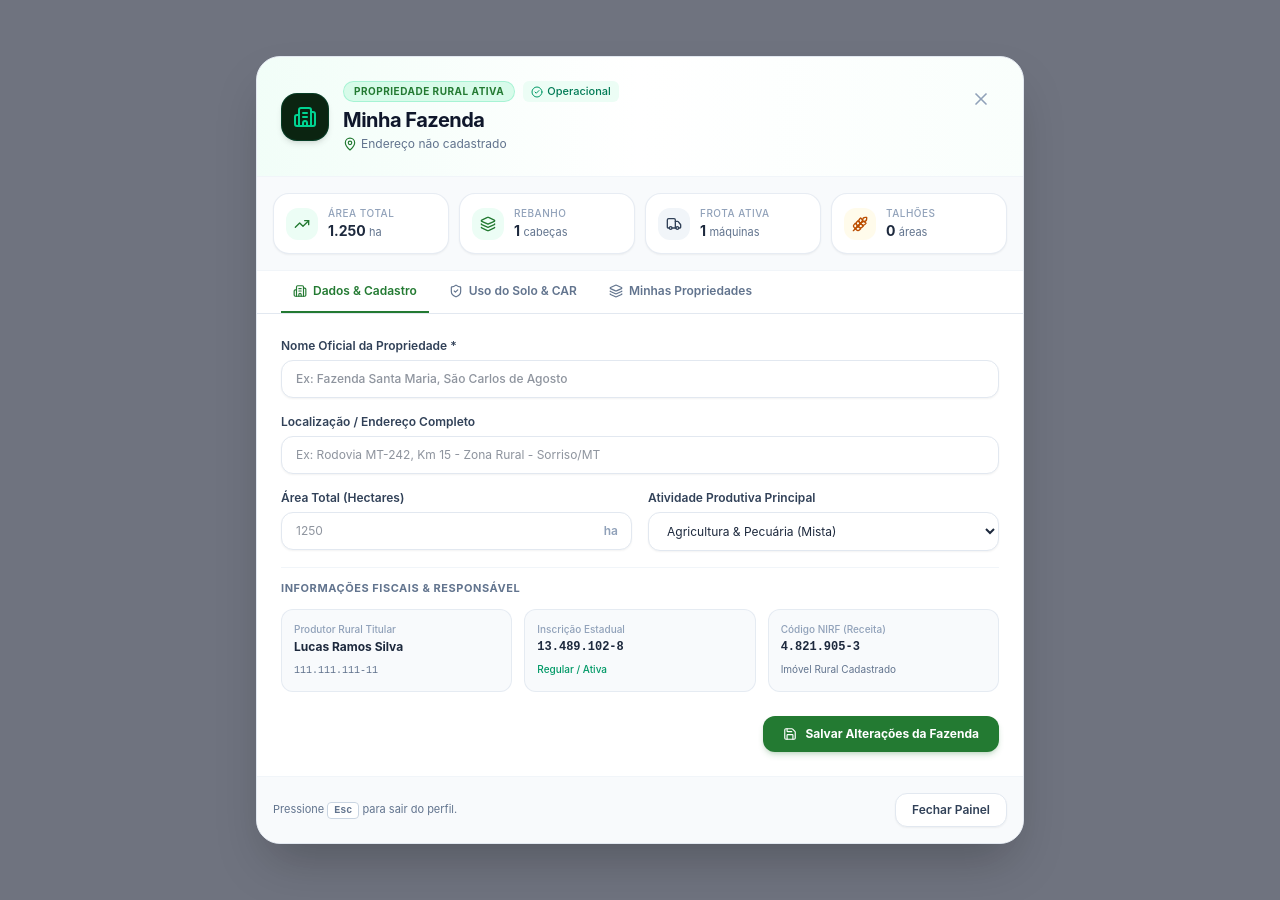
Test: Componente FarmProfileModal › deve alternar para a aba de Uso do Solo & CAR
The width and height of the screenshot is (1280, 900).
Click the button "Uso do Solo & CAR". click: (513, 298)
box: [437,283,589,313]
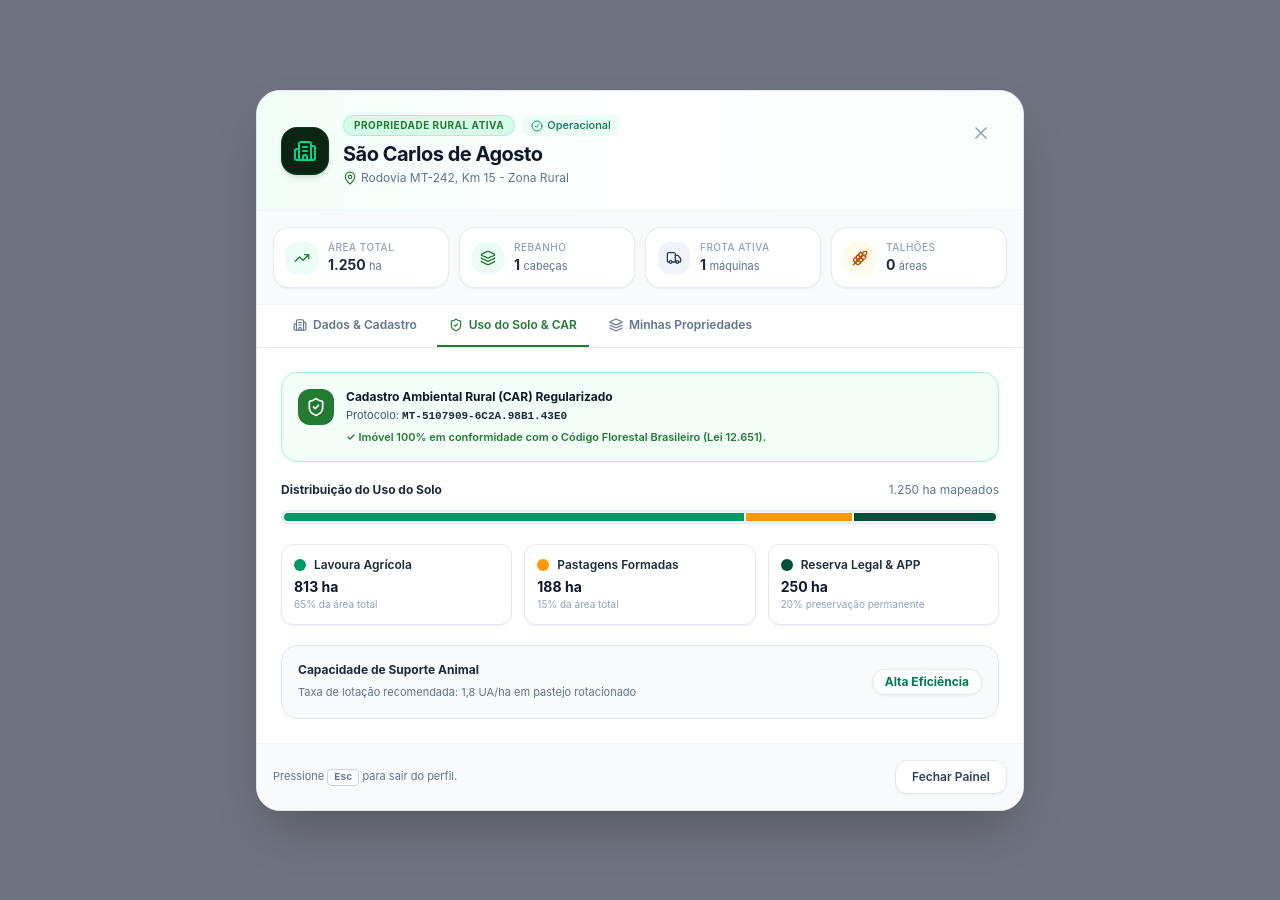
Now the heading "Cadastro Ambiental Rural (CAR) Regularizado" is shown, box [346,388,613,404]
Now the text "Distribuição do Uso do Solo" is shown, box [281,482,442,498]
Now the text "Lavoura Agrícola" is shown, box [314,556,412,572]
